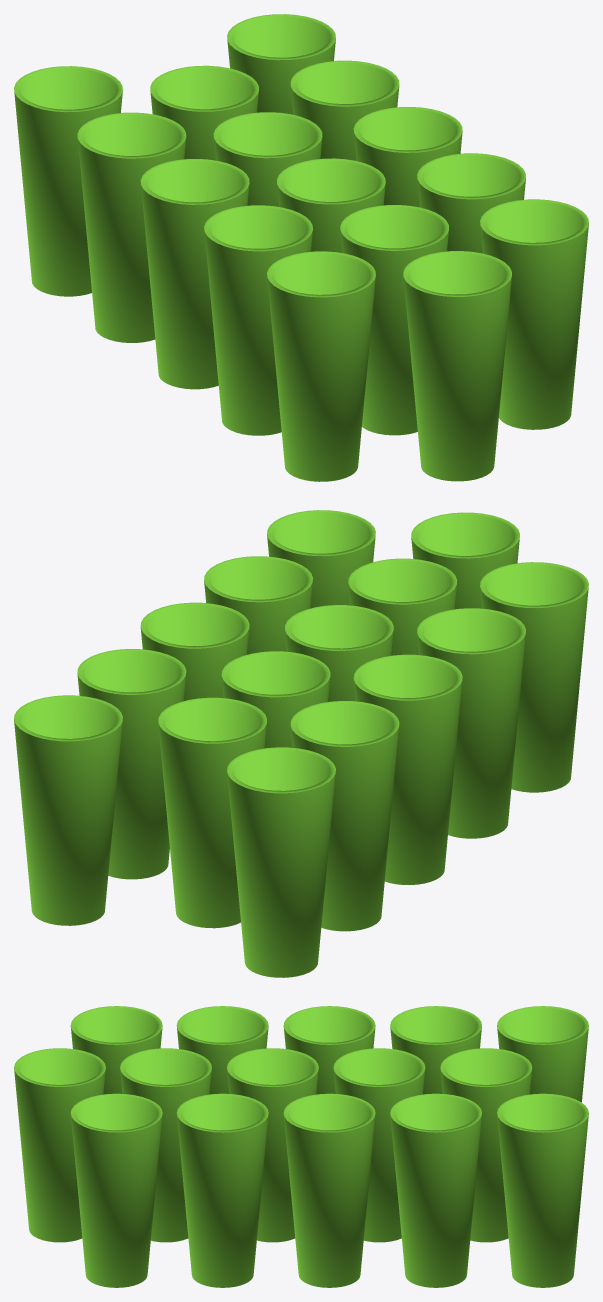
The model's file is SoHetic.glb.
The picture shows the model from 3 angles, top to bottom: view 1: azimuth 30°, elevation 25°; view 2: azimuth 150°, elevation 25°; view 3: azimuth 270°, elevation 25°; orthographic projection. The views are drawn at different scales.
Visible parts, largest first — view 1: SoHetic; view 2: SoHetic; view 3: SoHetic.
Boxes of the visible parts, x1=… form: SoHetic: x1=14, y1=14, x2=588, y2=481; SoHetic: x1=14, y1=510, x2=588, y2=977; SoHetic: x1=14, y1=1006, x2=588, y2=1287.
Bounding box in the file's own units: 0.1851 × 0.1104 × 0.3557.
